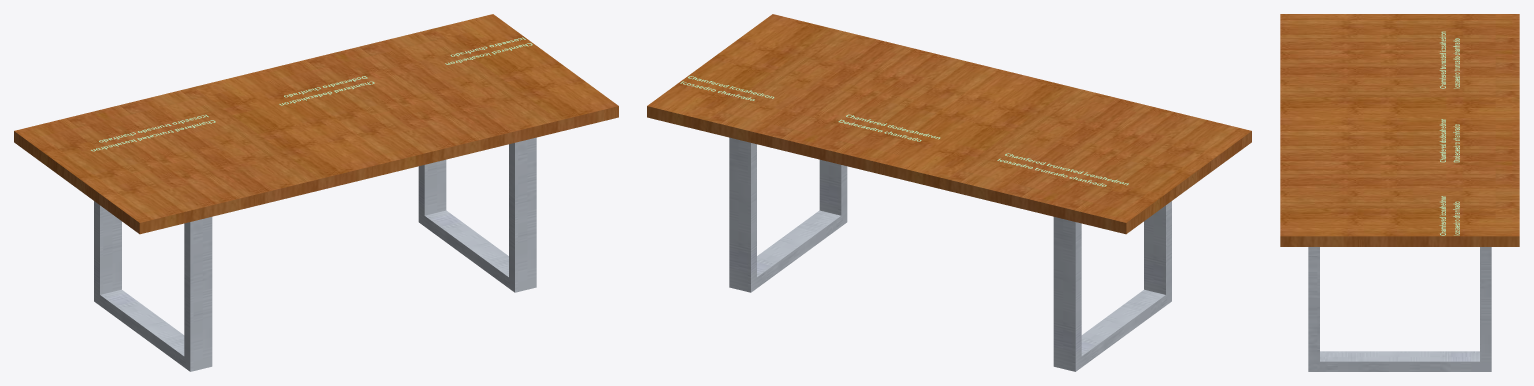
File: chamfered2.glb
3 views of the same model, side by side, from view 1: azimuth 30°, elevation 25°; view 2: azimuth 150°, elevation 25°; view 3: azimuth 270°, elevation 25° (orthographic). The views are drawn at different scales.
Visible parts, largest first — view 1: object 1, Composant#1 (×2), Chamfered trunca; view 2: object 1, Composant#1 (×2), Chamfered trunca; view 3: object 1, Composant#1, Chamfered trunca, Chamfered dodeca, Chamfered icosah.
Boxes of the visible parts, box(x1,y1,x2,y2) form: object 1: box(14, 14, 618, 234); Composant#1 (×2): box(94, 137, 536, 371); Chamfered trunca: box(91, 114, 215, 151); object 1: box(647, 14, 1251, 234); Composant#1 (×2): box(729, 137, 1171, 371); Chamfered trunca: box(997, 153, 1128, 186); object 1: box(1280, 14, 1519, 246); Composant#1: box(1308, 247, 1491, 371); Chamfered trunca: box(1439, 31, 1459, 88); Chamfered dodeca: box(1439, 119, 1459, 162); Chamfered icosah: box(1439, 196, 1459, 235).
Bounding box in the file's own units: 2.2 × 0.771 × 1.
3 materials, 2 textured.
